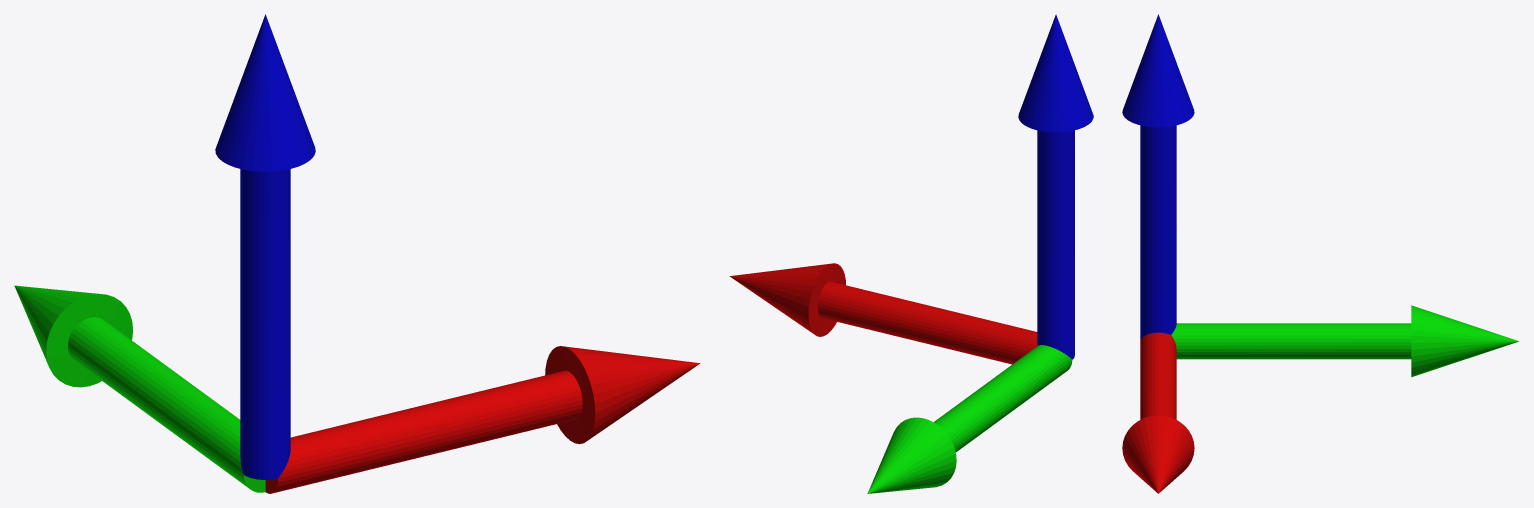
File: coordinate_system.dae
3 renders of one model, left to right at view 1: azimuth 30°, elevation 25°; view 2: azimuth 150°, elevation 25°; view 3: azimuth 270°, elevation 25°, orthographic. The views are drawn at different scales.
Parts seen in each view (by area): view 1: Tube; view 2: Tube; view 3: Tube.
Part boxes in pixels (x1,y1,x2,y2): Tube: [14, 14, 699, 493]; Tube: [729, 14, 1093, 493]; Tube: [1122, 14, 1518, 493].
Size of the model in its own units: 1.1 by 1.1 by 1.1.
